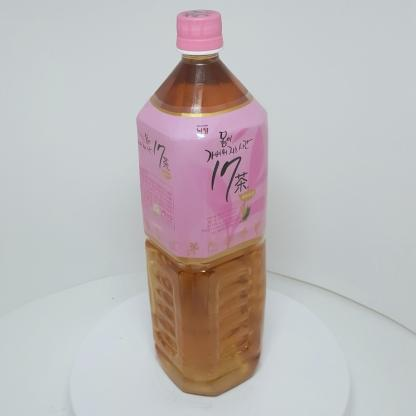--17-----1-5L: (136, 9, 269, 397)
